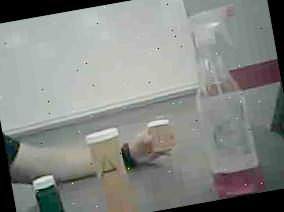Bottle A: (80, 120, 149, 212)
Bottle B: (141, 113, 184, 168)
Bottle C: (26, 170, 77, 212)
hazard: (165, 0, 282, 203)
